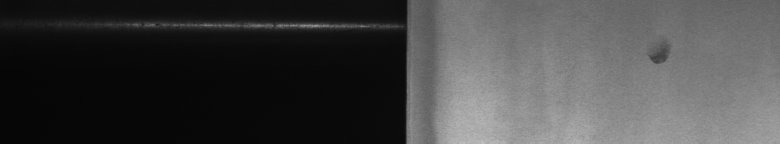fi: (645, 41, 675, 72)
